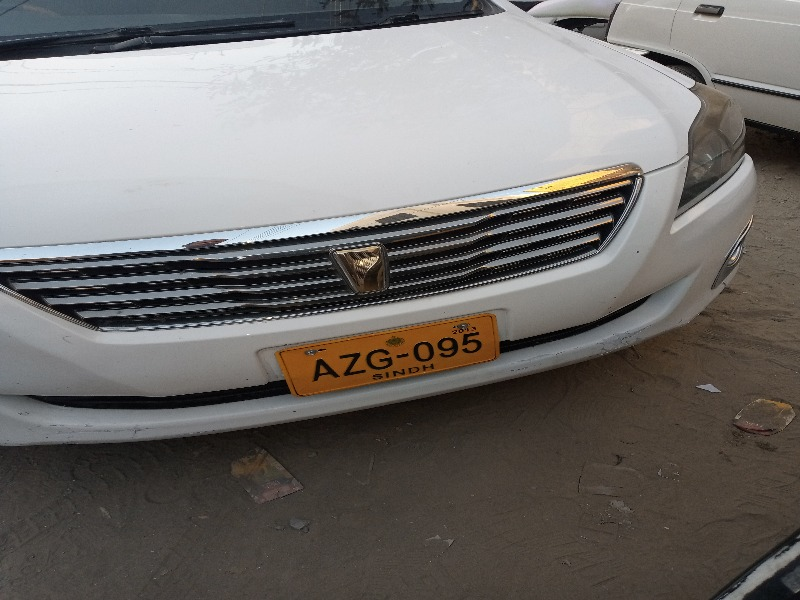License Plate: (276, 314, 509, 400)
